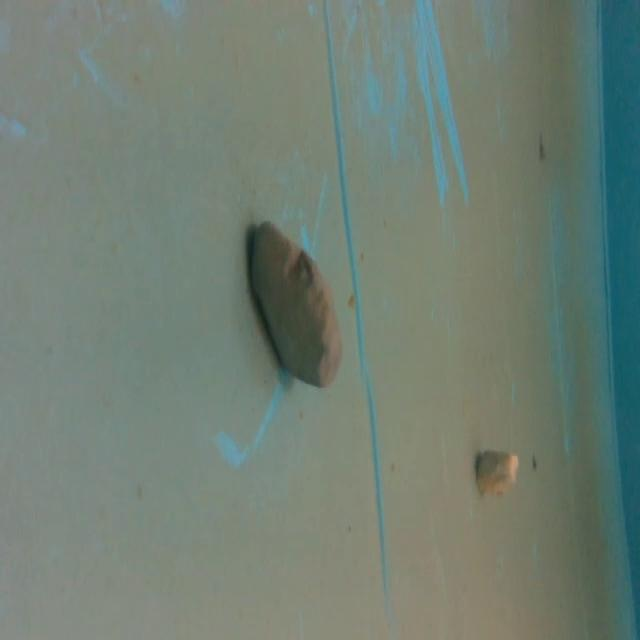rock: (241, 214, 352, 396), (471, 442, 519, 505)
